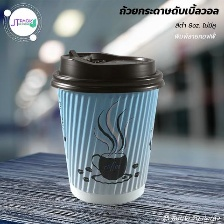paper_cup: (45, 45, 168, 209)
